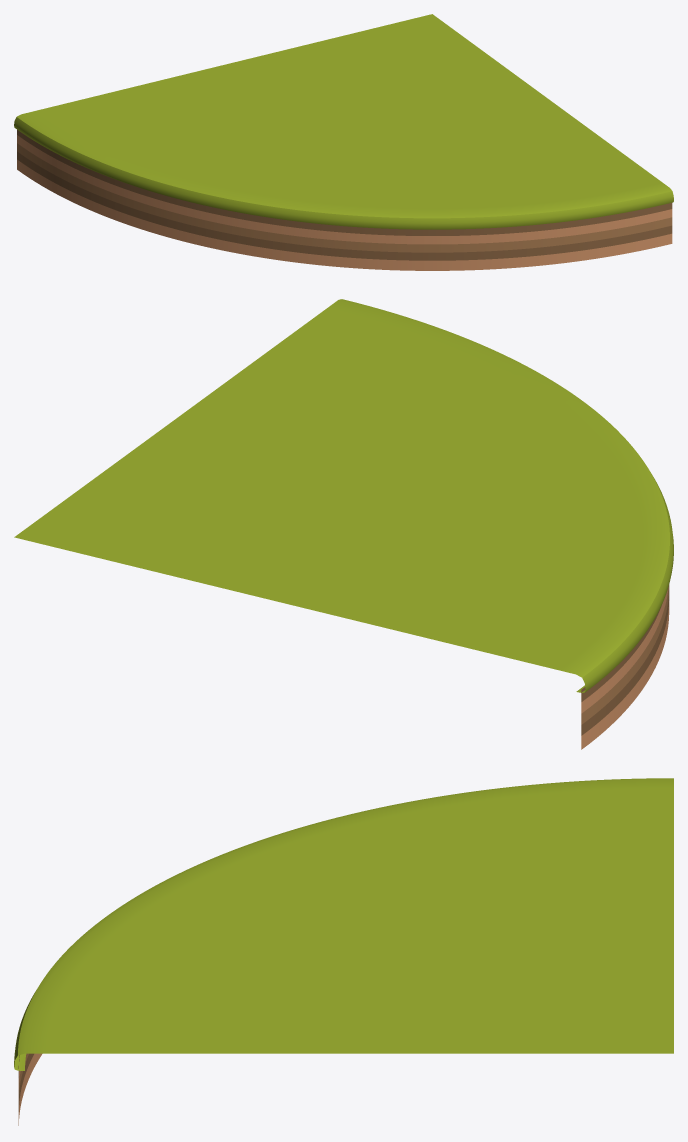
Rendered from platform_grass_corner_round8_tall.gltf.
The picture shows the model from 3 angles, top to bottom: view 1: azimuth 30°, elevation 25°; view 2: azimuth 150°, elevation 25°; view 3: azimuth 270°, elevation 25°; orthographic projection. The views are drawn at different scales.
Visible parts, largest first — view 1: Cube_Grass_Corner_Round8_Tall; view 2: Cube_Grass_Corner_Round8_Tall; view 3: Cube_Grass_Corner_Round8_Tall.
Boxes of the visible parts, x1=… form: Cube_Grass_Corner_Round8_Tall: x1=14, y1=14, x2=673, y2=270; Cube_Grass_Corner_Round8_Tall: x1=14, y1=299, x2=673, y2=749; Cube_Grass_Corner_Round8_Tall: x1=14, y1=778, x2=673, y2=1125.
Bounding box in the file's own units: 16.12 × 2 × 16.12.
